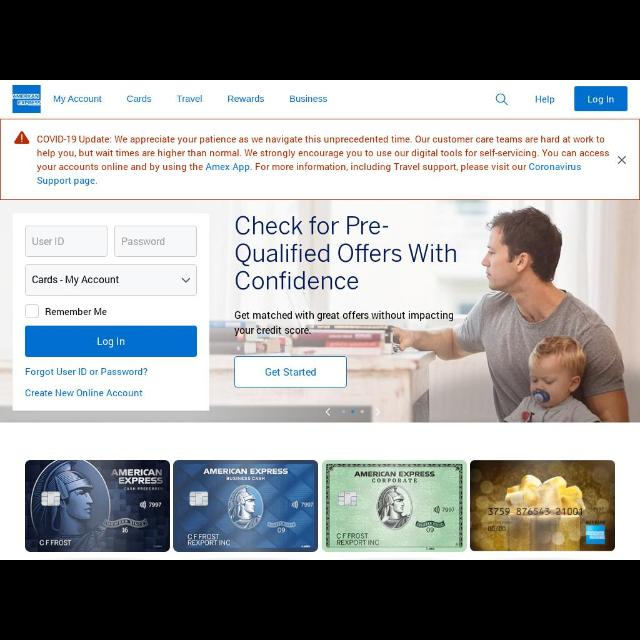backgroundimage: (1, 202, 639, 424)
checkbox: (24, 304, 40, 318)
icon: (494, 93, 508, 107), (16, 131, 28, 145), (618, 155, 626, 165), (181, 277, 191, 283), (326, 408, 332, 416), (374, 408, 380, 416)
image: (23, 457, 171, 553), (470, 458, 618, 554), (172, 458, 318, 554), (322, 460, 468, 552), (12, 85, 42, 114)
input: (114, 225, 198, 259), (25, 226, 109, 256)
multitab: (51, 94, 331, 105)
pageindicator: (341, 410, 365, 414)
panel: (1, 118, 639, 202), (12, 212, 208, 412)
spinner: (24, 264, 198, 296)
text: (37, 136, 608, 186), (235, 215, 458, 289), (234, 310, 454, 338), (25, 367, 148, 378), (24, 388, 144, 398), (31, 276, 120, 286), (46, 307, 106, 317), (120, 236, 166, 248), (265, 368, 317, 378), (52, 95, 102, 105), (96, 336, 126, 348), (289, 95, 329, 104), (32, 236, 64, 247), (228, 95, 264, 103), (588, 94, 614, 105), (177, 95, 203, 104), (126, 95, 152, 103), (535, 95, 555, 105)
textbutton: (24, 326, 198, 358), (234, 356, 348, 389), (574, 86, 628, 112)
toolbar: (2, 80, 638, 118)
